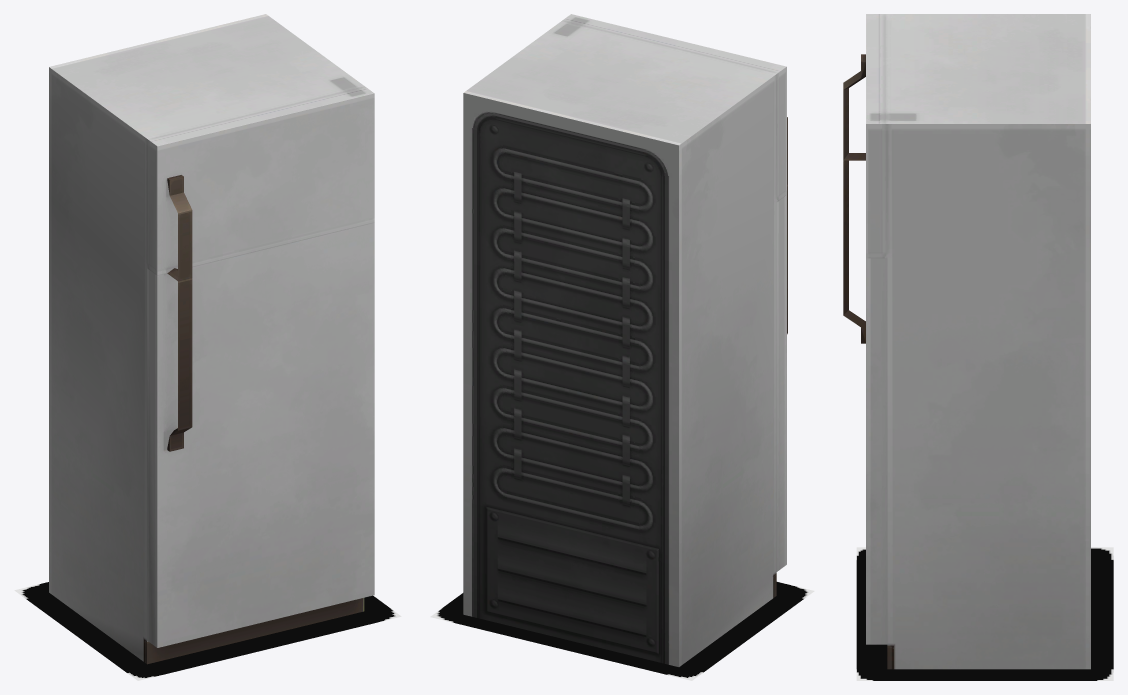
The model's file is jj_ty_bingxiang01.FBX.
3 views of the same model, side by side, from view 1: azimuth 30°, elevation 25°; view 2: azimuth 150°, elevation 25°; view 3: azimuth 270°, elevation 25° (orthographic). The views are drawn at different scales.
Visible parts, largest first — view 1: jj_ty_bingxiang01, shadow; view 2: jj_ty_bingxiang01, shadow; view 3: jj_ty_bingxiang01, shadow.
Boxes of the visible parts, left/top/right/bottom form: jj_ty_bingxiang01: left=49, top=14, right=374, bottom=664; shadow: left=14, top=582, right=401, bottom=680; jj_ty_bingxiang01: left=463, top=14, right=787, bottom=666; shadow: left=430, top=582, right=814, bottom=680; jj_ty_bingxiang01: left=843, top=14, right=1090, bottom=669; shadow: left=856, top=547, right=1113, bottom=680.
Size of the model in its own units: 96.79 by 185 by 82.76.
